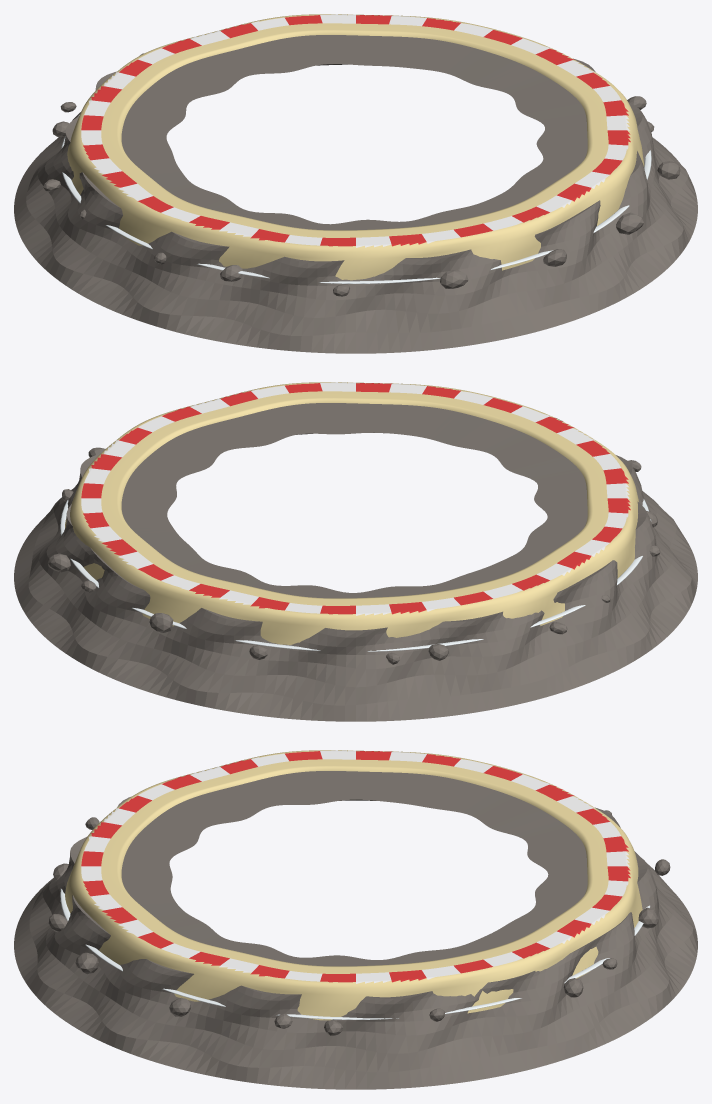
Rendered from BumperIsland.obj.
The picture shows the model from 3 angles, top to bottom: view 1: azimuth 30°, elevation 25°; view 2: azimuth 150°, elevation 25°; view 3: azimuth 270°, elevation 25°; orthographic projection.
Parts seen in each view (by area): view 1: Rock, Sand, StripeWhite, StripeRed, Foam; view 2: Rock, Sand, StripeWhite, StripeRed, Foam; view 3: Rock, Sand, StripeWhite, StripeRed, Foam.
Part boxes in pixels (x1=…): Rock: x1=14, y1=35, x2=697, y2=353; Sand: x1=67, y1=14, x2=644, y2=280; StripeWhite: x1=81, y1=14, x2=629, y2=247; StripeRed: x1=81, y1=15, x2=630, y2=246; Foam: x1=61, y1=114, x2=651, y2=283; Rock: x1=14, y1=403, x2=697, y2=721; Sand: x1=65, y1=382, x2=638, y2=645; StripeWhite: x1=81, y1=382, x2=629, y2=615; StripeRed: x1=81, y1=383, x2=630, y2=614; Foam: x1=60, y1=498, x2=651, y2=651; Rock: x1=14, y1=771, x2=697, y2=1089; Sand: x1=65, y1=750, x2=642, y2=1020; StripeWhite: x1=81, y1=750, x2=629, y2=983; StripeRed: x1=81, y1=751, x2=630, y2=982; Foam: x1=60, y1=888, x2=650, y2=1019.
Bounding box in the file's own units: 110 × 14 × 110.
